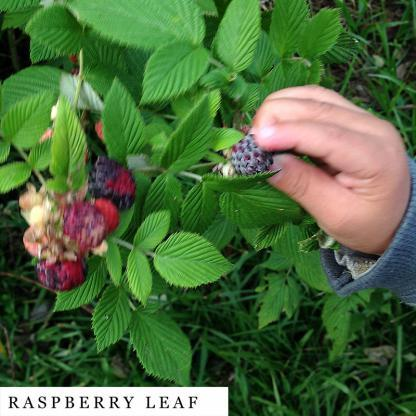Raspberry leaf: (95, 111, 206, 261)
